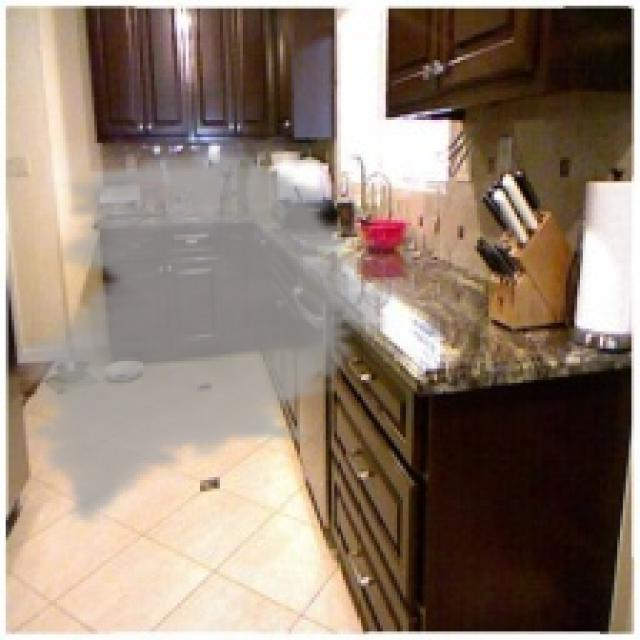Smoke: (3, 145, 400, 526)
